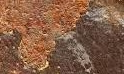Corrosion: (1, 1, 92, 69)
